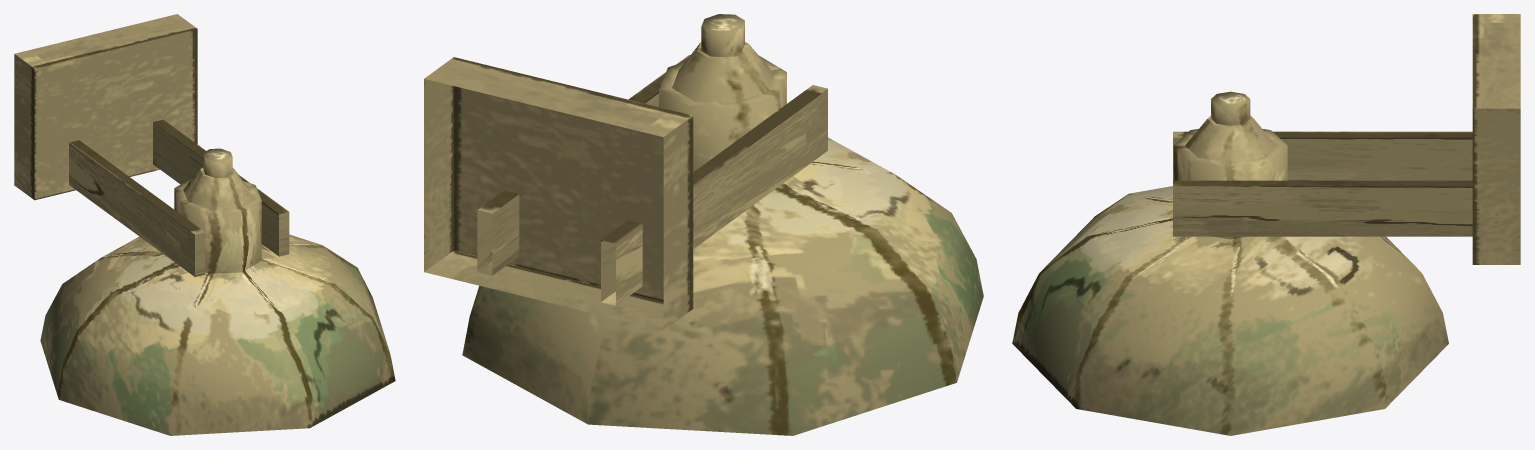
Rendered from Aplique.FBX.
3 renders of one model, left to right at view 1: azimuth 30°, elevation 25°; view 2: azimuth 150°, elevation 25°; view 3: azimuth 270°, elevation 25°, orthographic. The views are drawn at different scales.
Visible parts, largest first — view 1: Cylinder002; view 2: Cylinder002; view 3: Cylinder002.
Part boxes in pixels (x1,y1,x2,y2): Cylinder002: (14,14,395,435); Cylinder002: (424,14,983,435); Cylinder002: (1012,14,1520,435).
Bounding box in the file's own units: 37.89 × 27.02 × 44.1.
